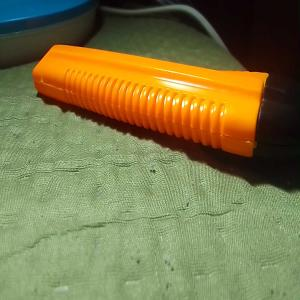estilete: (32, 44, 300, 167)
